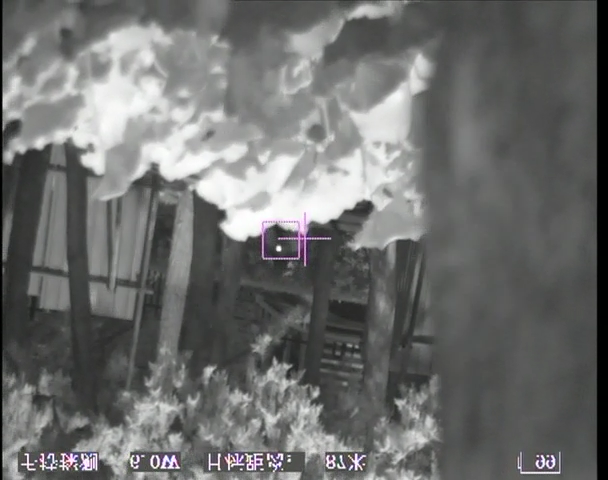my: (275, 244, 285, 255)
